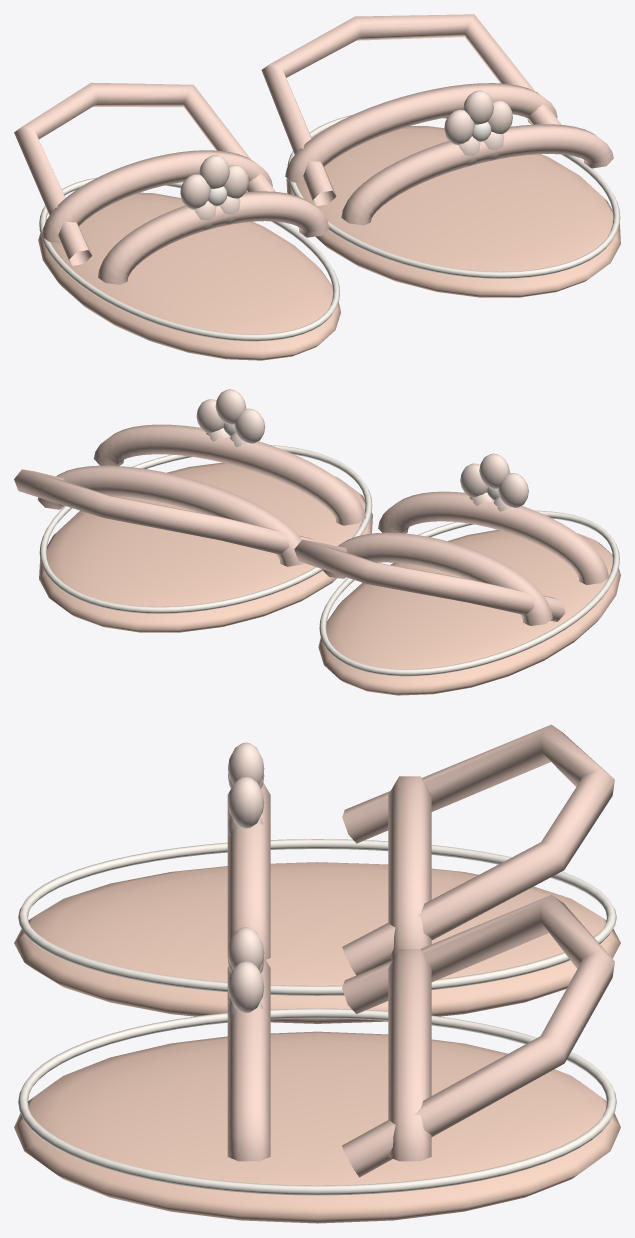
Rendered from sandals_summer_chick_tailored.glb.
The picture shows the model from 3 angles, top to bottom: view 1: azimuth 30°, elevation 25°; view 2: azimuth 150°, elevation 25°; view 3: azimuth 270°, elevation 25°; orthographic projection. The views are drawn at different scales.
Visible parts, largest first — view 1: Calzado · Left · Suela.019, Calzado · Right · Suela.019, Calzado · Left · Talón.003, Calzado · Right · Talón.003, Calzado · Left · Correa redondeada.007, Calzado · Left · Correa redondeada.006, Calzado · Right · Correa redondeada.006, Calzado · Right · Correa redondeada.007, Calzado · Right · Ribete de suela.019, Calzado · Left · Ribete de suela.019, Calzado · Right · Pétalo.019, Calzado · Left · Pétalo.019 (+4 smaller); view 2: Calzado · Left · Suela.019, Calzado · Right · Suela.019, Calzado · Left · Correa redondeada.007, Calzado · Right · Correa redondeada.006, Calzado · Left · Talón.003, Calzado · Left · Correa redondeada.006, Calzado · Right · Talón.003, Calzado · Right · Correa redondeada.007, Calzado · Left · Ribete de suela.019, Calzado · Right · Ribete de suela.019, Calzado · Left · Pétalo.019, Calzado · Right · Pétalo.019 (+4 smaller); view 3: Calzado · Left · Suela.019, Calzado · Right · Suela.019, Calzado · Left · Talón.003, Calzado · Right · Talón.003, Calzado · Left · Ribete de suela.019, Calzado · Right · Ribete de suela.019, Calzado · Left · Correa redondeada.006, Calzado · Left · Correa redondeada.007, Calzado · Right · Correa redondeada.007, Calzado · Right · Correa redondeada.006, Calzado · Left · Pétalo.016, Calzado · Right · Pétalo.015 (+2 smaller).
Part boxes in pixels (<box>): Calzado · Left · Suela.019: <box>286,126,620,297</box>; Calzado · Right · Suela.019: <box>38,192,340,360</box>; Calzado · Left · Talón.003: <box>261,14,561,205</box>; Calzado · Right · Talón.003: <box>14,82,275,265</box>; Calzado · Left · Correa redondeada.007: <box>341,124,613,225</box>; Calzado · Left · Correa redondeada.006: <box>285,83,557,184</box>; Calzado · Right · Correa redondeada.006: <box>98,191,328,284</box>; Calzado · Right · Correa redondeada.007: <box>42,150,272,243</box>; Calzado · Right · Ribete de suela.019: <box>39,177,339,341</box>; Calzado · Left · Ribete de suela.019: <box>287,115,620,278</box>; Calzado · Right · Pétalo.019: <box>180,174,210,209</box>; Calzado · Left · Pétalo.019: <box>444,109,474,144</box>; Calzado · Left · Suela.019: <box>39,462,372,632</box>; Calzado · Right · Suela.019: <box>318,530,620,695</box>; Calzado · Left · Correa redondeada.007: <box>93,424,365,525</box>; Calzado · Right · Correa redondeada.006: <box>378,491,608,584</box>; Calzado · Left · Talón.003: <box>14,469,319,554</box>; Calzado · Left · Correa redondeada.006: <box>37,465,303,566</box>; Calzado · Right · Talón.003: <box>294,539,565,621</box>; Calzado · Right · Correa redondeada.007: <box>322,532,552,625</box>; Calzado · Left · Ribete de suela.019: <box>39,445,372,613</box>; Calzado · Right · Ribete de suela.019: <box>319,510,619,676</box>; Calzado · Left · Pétalo.019: <box>234,408,265,443</box>; Calzado · Right · Pétalo.019: <box>498,473,528,507</box>; Calzado · Left · Suela.019: <box>14,1031,620,1223</box>; Calzado · Right · Suela.019: <box>14,862,620,1023</box>; Calzado · Left · Talón.003: <box>342,894,614,1177</box>; Calzado · Right · Talón.003: <box>342,724,614,975</box>; Calzado · Left · Ribete de suela.019: <box>18,1008,616,1195</box>; Calzado · Right · Ribete de suela.019: <box>18,839,616,995</box>; Calzado · Left · Correa redondeada.006: <box>388,949,431,1161</box>; Calzado · Left · Correa redondeada.007: <box>227,956,270,1161</box>; Calzado · Right · Correa redondeada.007: <box>388,776,431,959</box>; Calzado · Right · Correa redondeada.006: <box>227,783,270,959</box>; Calzado · Left · Pétalo.016: <box>228,961,264,1013</box>; Calzado · Right · Pétalo.015: <box>228,776,264,828</box>.
Bounding box in the file's own units: 0.5068 × 0.152 × 0.3658.
